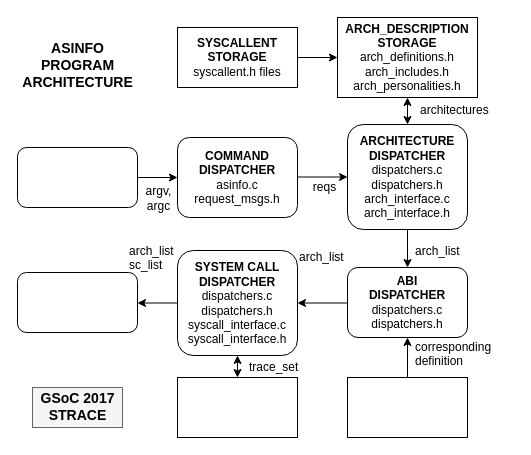
This 531x455 diagram has some shape labels left out. The shapes that lost their labels are listed below. From the top down, each one's box as (x1, y1, x2, y2) in pixels, then its label:
(16, 146, 138, 208): TERMINAL INPUT tool arguments
(16, 272, 138, 332): TERMINAL OUTPUT stdout
(176, 376, 298, 438): FILTERING basic_filter.c filter.h number_set.h
(346, 376, 468, 438): PERSONALITY DETECTOR config.h
